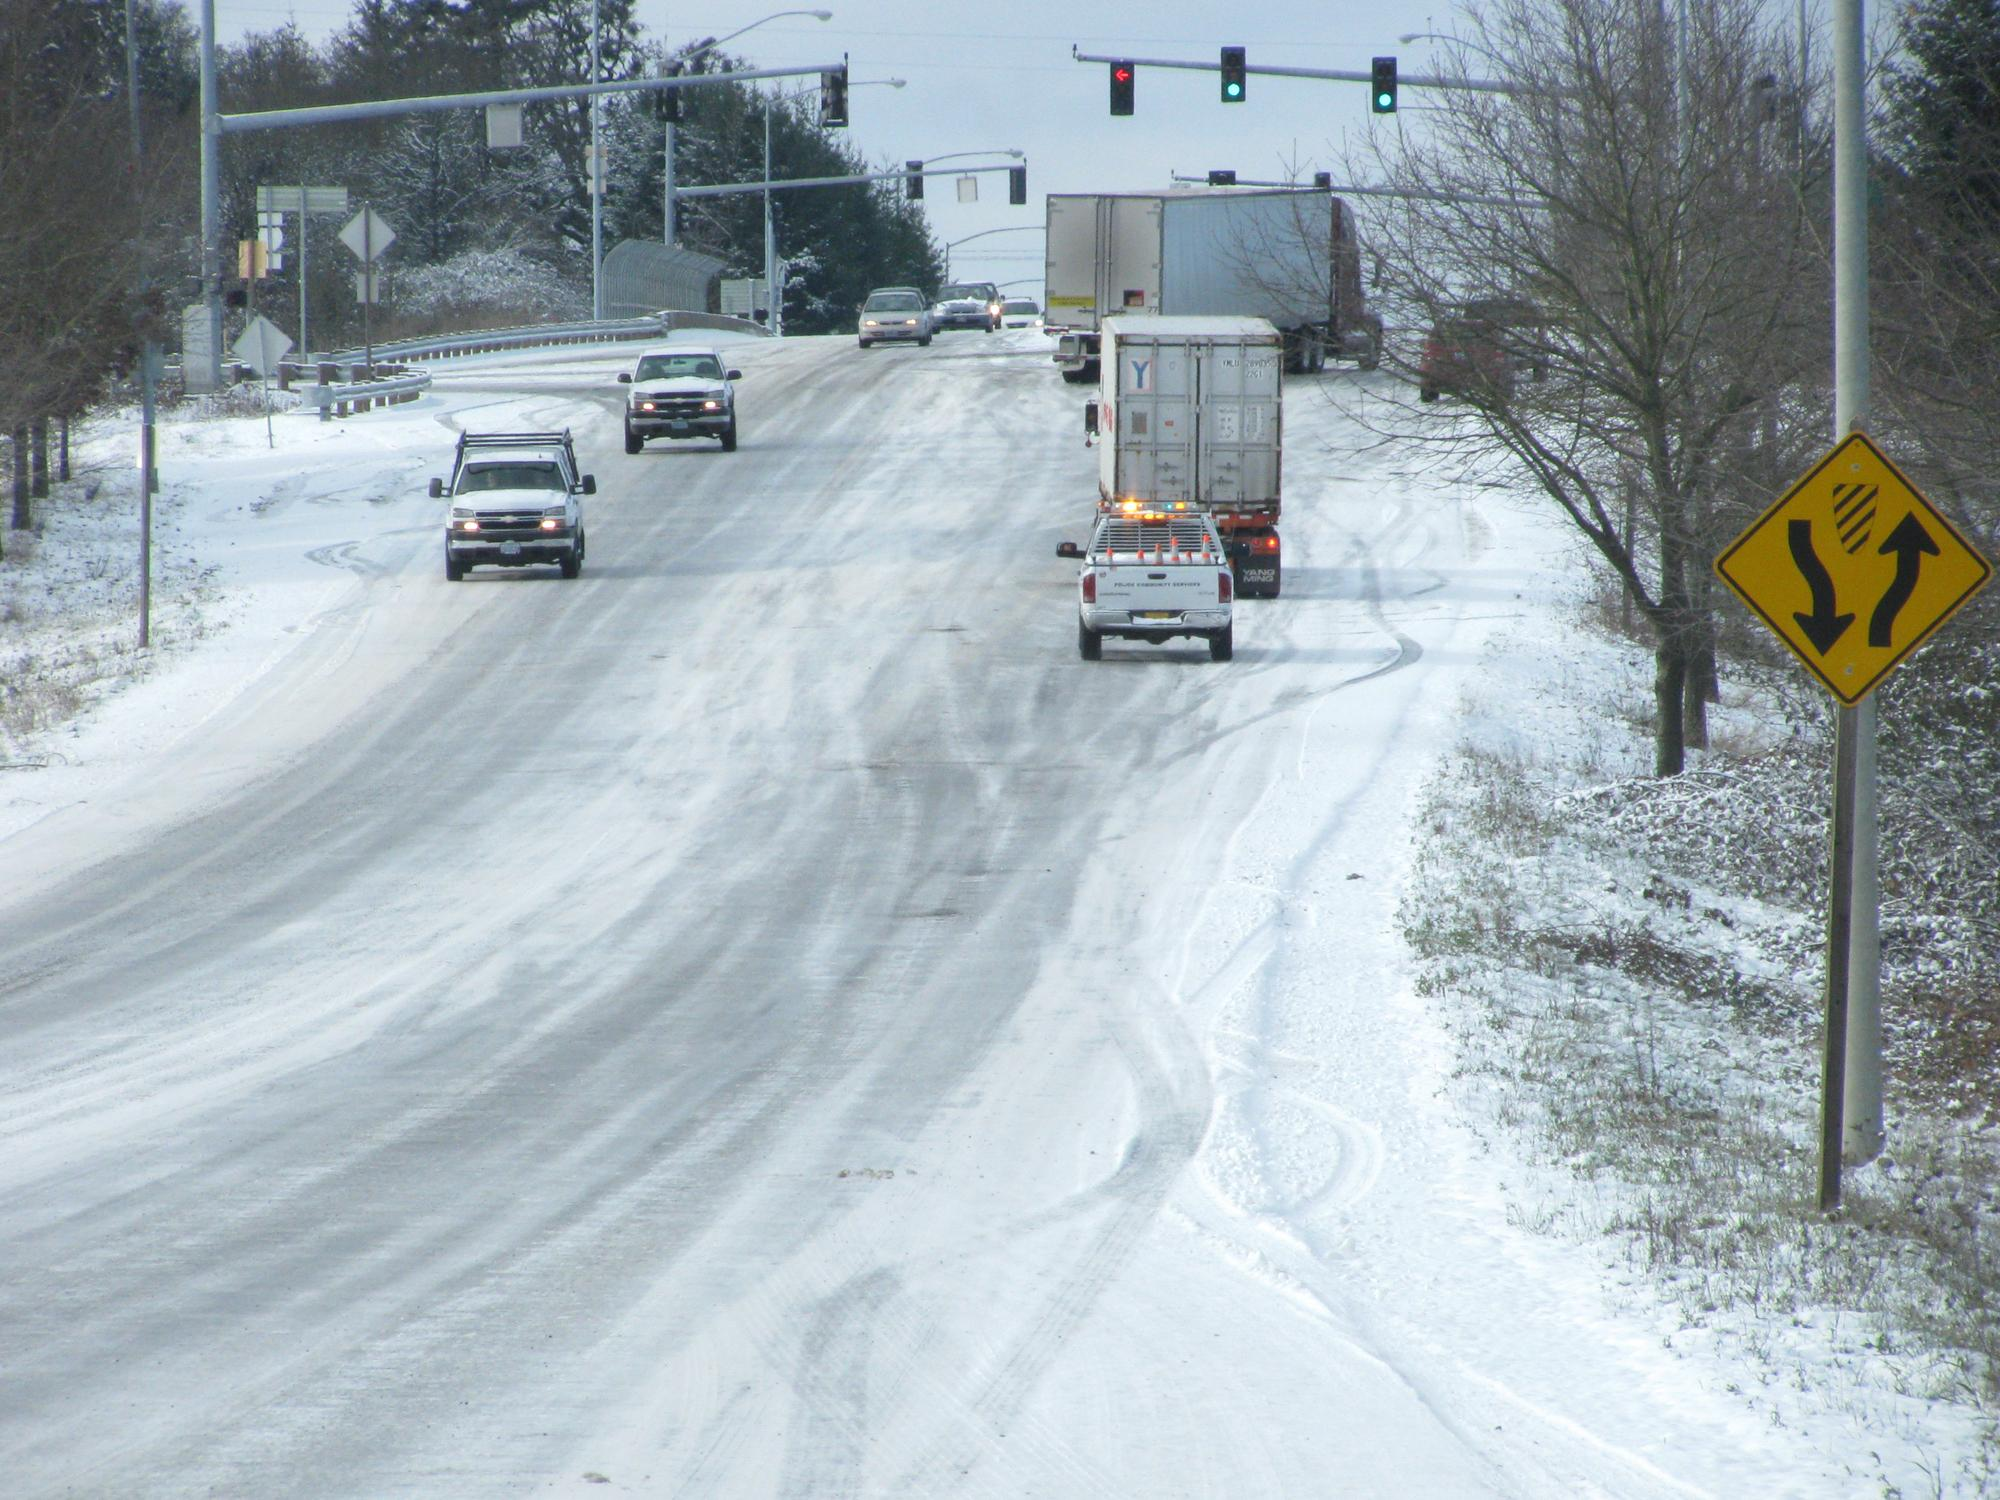car: (857, 290, 939, 353)
traffic light: (1369, 54, 1403, 117), (1106, 57, 1139, 121), (1217, 44, 1250, 106)
truck: (1033, 186, 1384, 386), (1082, 317, 1291, 599), (1055, 496, 1243, 660), (424, 414, 600, 585), (613, 347, 746, 460)
